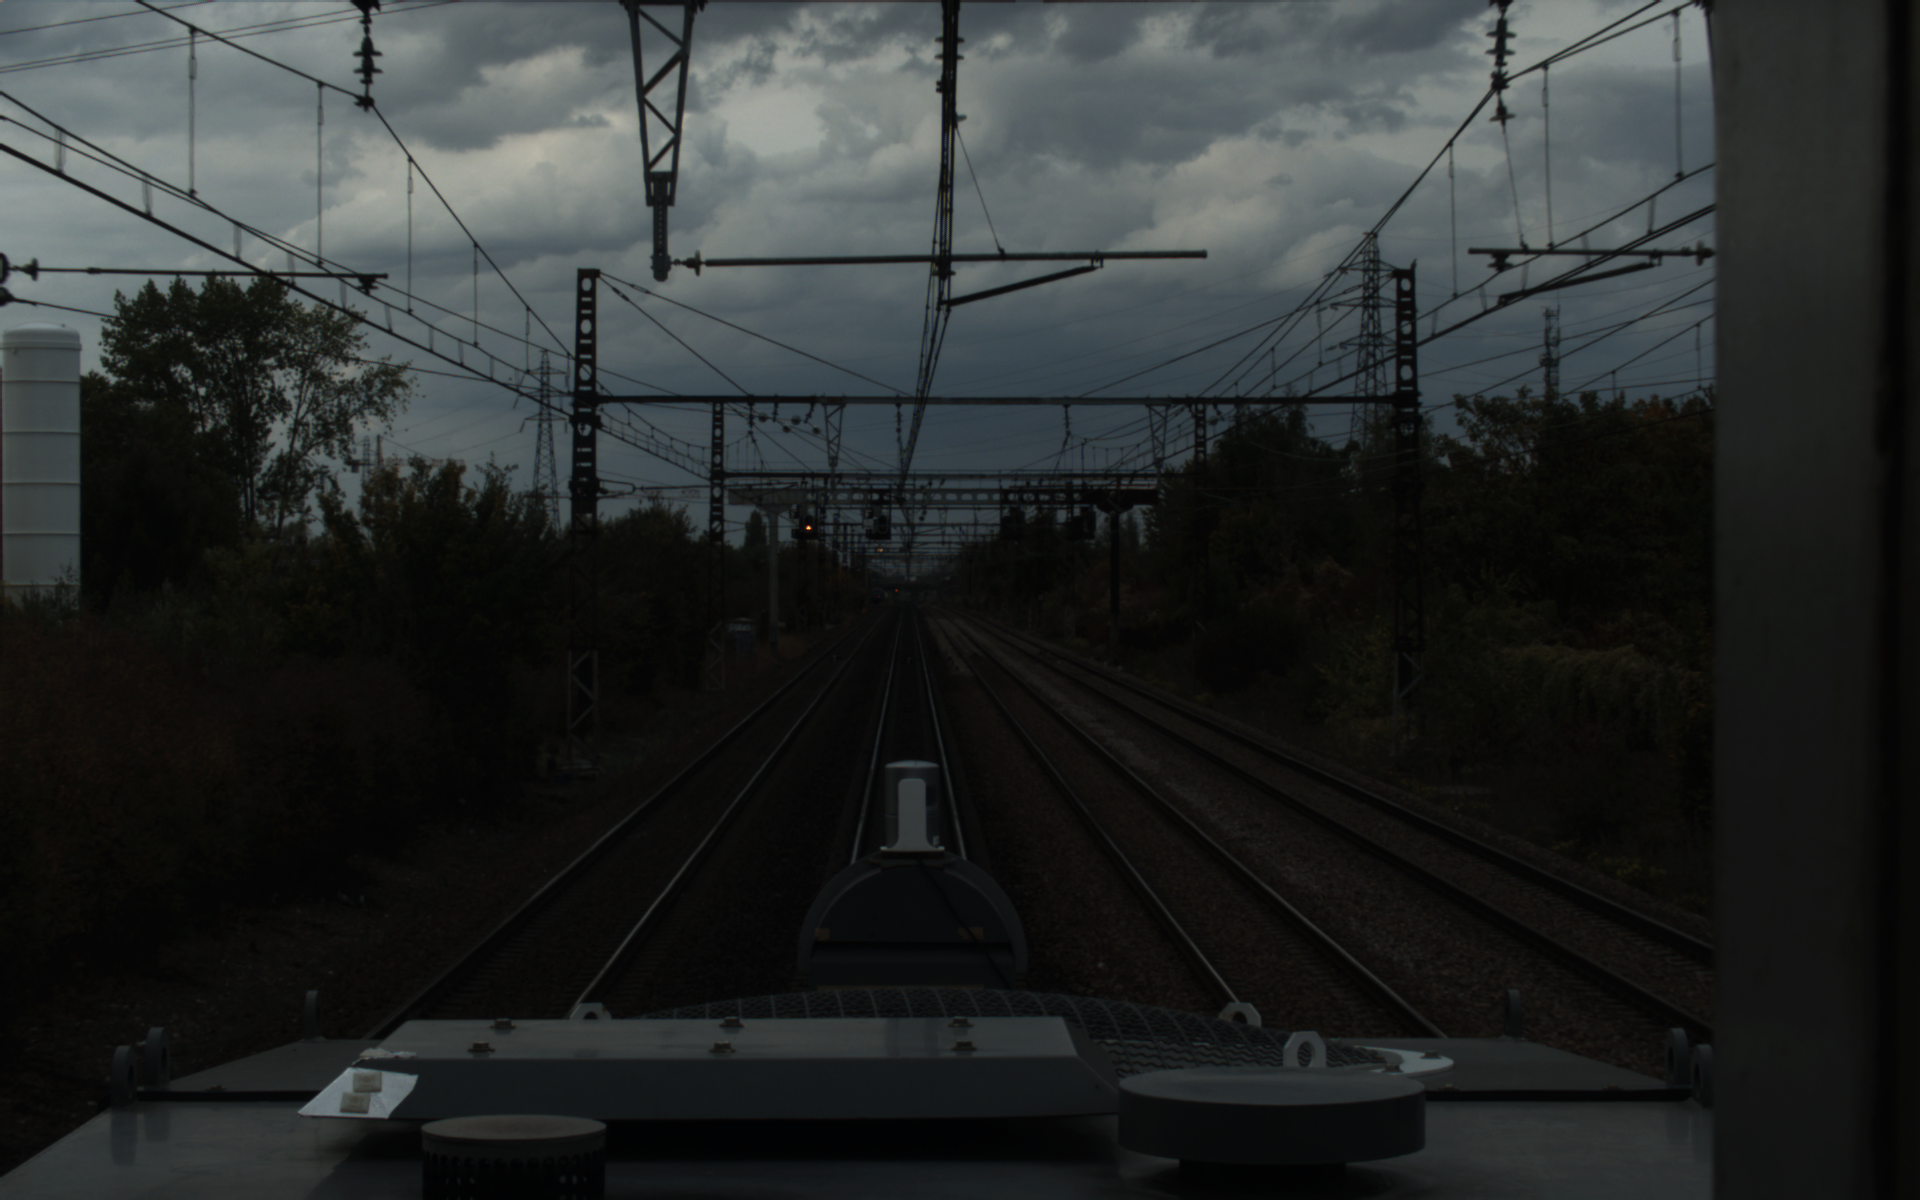Blinking: (800, 513, 816, 536), (875, 513, 889, 535)
